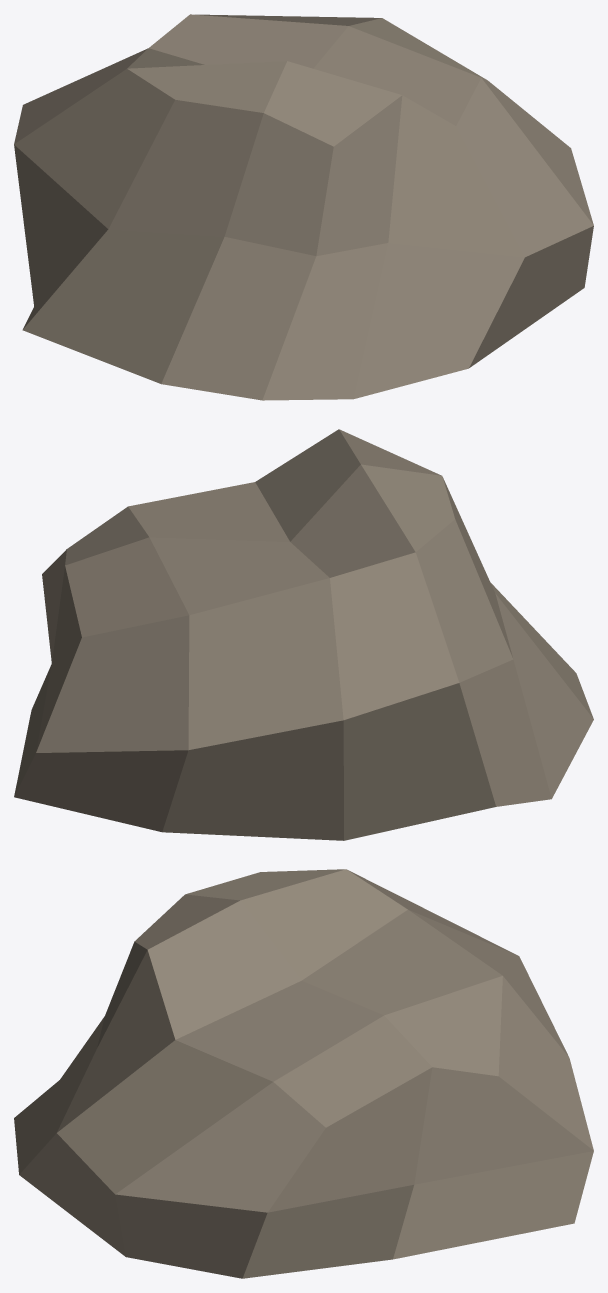
The model's file is mossStoneA-compressed.glb.
3 renders of one model, top to bottom at view 1: azimuth 30°, elevation 25°; view 2: azimuth 150°, elevation 25°; view 3: azimuth 270°, elevation 25°, orthographic. The views are drawn at different scales.
Parts seen in each view (by area): view 1: mossStoneA; view 2: mossStoneA; view 3: mossStoneA.
Part boxes in pixels (box(x1,y1,x2,y2)): mossStoneA: box(14, 14, 593, 400); mossStoneA: box(14, 429, 593, 840); mossStoneA: box(14, 869, 593, 1278).
Bounding box in the file's own units: 1.92 × 0.8501 × 1.86.
